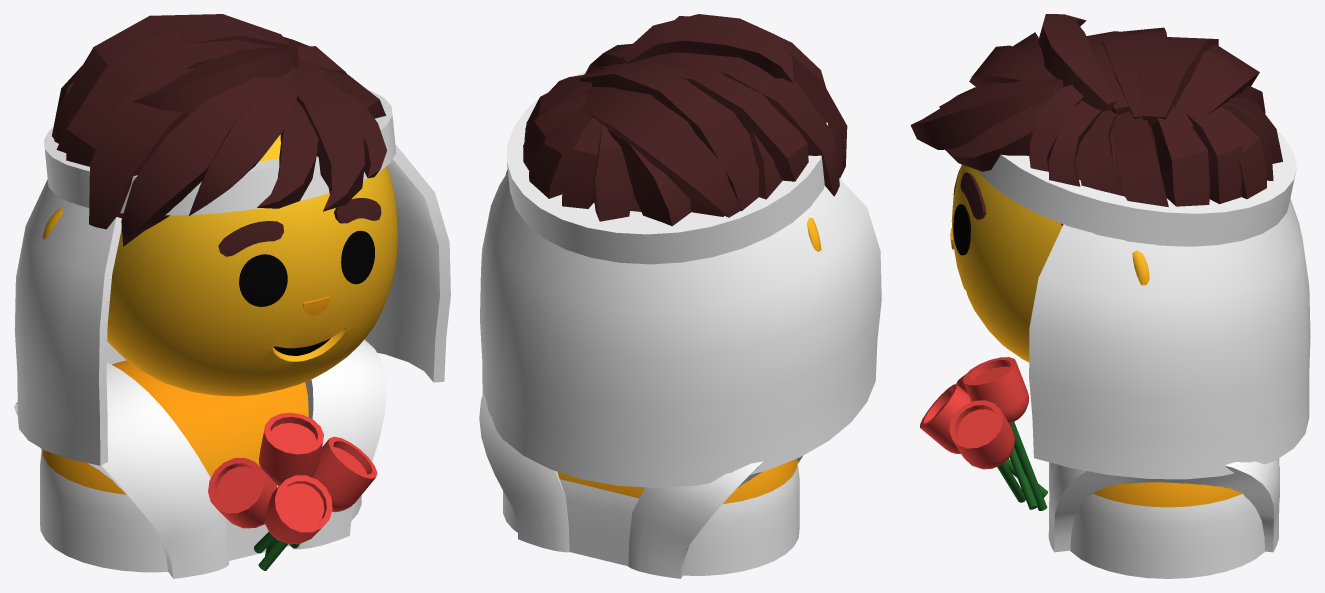
The model's file is person_with_veil.glb.
3 renders of one model, left to right at view 1: azimuth 30°, elevation 25°; view 2: azimuth 150°, elevation 25°; view 3: azimuth 270°, elevation 25°, orthographic. The views are drawn at different scales.
Visible parts, largest first — view 1: Cube.2185, Roundcube.175, Sphere.147, Sphere.146, Sphere.145, Cylinder.146, Circle.879, Circle.881; view 2: Sphere.147, Cube.2185, Sphere.146, Sphere.145; view 3: Sphere.147, Cube.2185, Sphere.146, Sphere.145, Roundcube.175, Cylinder.146, Circle.879, Circle.881.
Boxes of the visible parts, bbox=[...] form: Cube.2185: bbox=[52, 14, 386, 246]; Roundcube.175: bbox=[107, 134, 397, 396]; Sphere.147: bbox=[14, 144, 450, 465]; Sphere.146: bbox=[14, 89, 396, 578]; Sphere.145: bbox=[40, 360, 361, 572]; Cylinder.146: bbox=[208, 412, 377, 570]; Circle.879: bbox=[239, 230, 374, 306]; Circle.881: bbox=[218, 198, 381, 256]; Sphere.147: bbox=[480, 172, 881, 487]; Cube.2185: bbox=[523, 14, 847, 226]; Sphere.146: bbox=[479, 70, 828, 578]; Sphere.145: bbox=[503, 458, 799, 575]; Sphere.147: bbox=[1029, 199, 1310, 479]; Cube.2185: bbox=[910, 14, 1282, 225]; Sphere.146: bbox=[977, 131, 1296, 552]; Sphere.145: bbox=[1070, 482, 1264, 578]; Roundcube.175: bbox=[951, 124, 1159, 362]; Cylinder.146: bbox=[920, 357, 1047, 510]; Circle.879: bbox=[953, 168, 970, 255]; Circle.881: bbox=[960, 172, 986, 219].
Size of the model in its own units: 1.96 by 2.48 by 1.9.
Materials: 2 (2 with a texture image).
